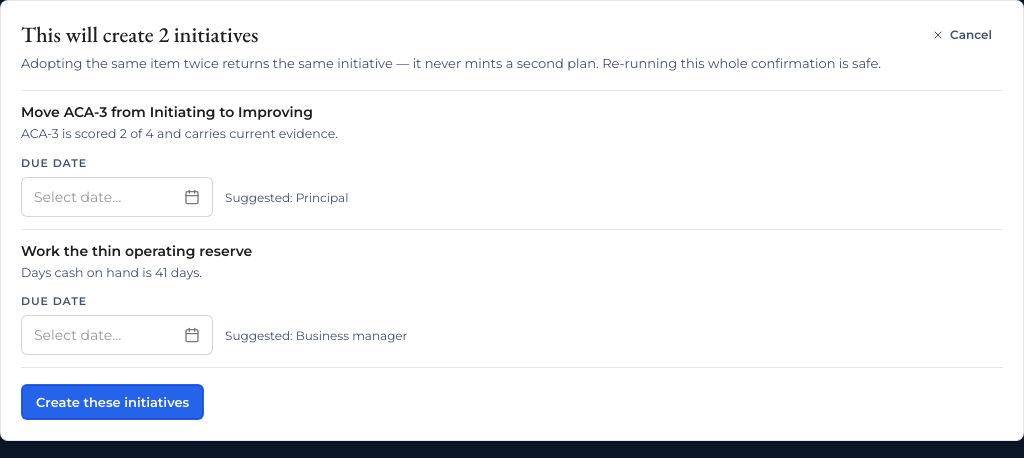
Test: SPEC-WEB-8 — acceptance 8: a 200 reads "already being worked", never "Created" › a partial failure is reported per row and never rolled back
Click the button "Create these initiatives". click: (113, 402)
box: x1=21 y1=384 x2=204 y2=420
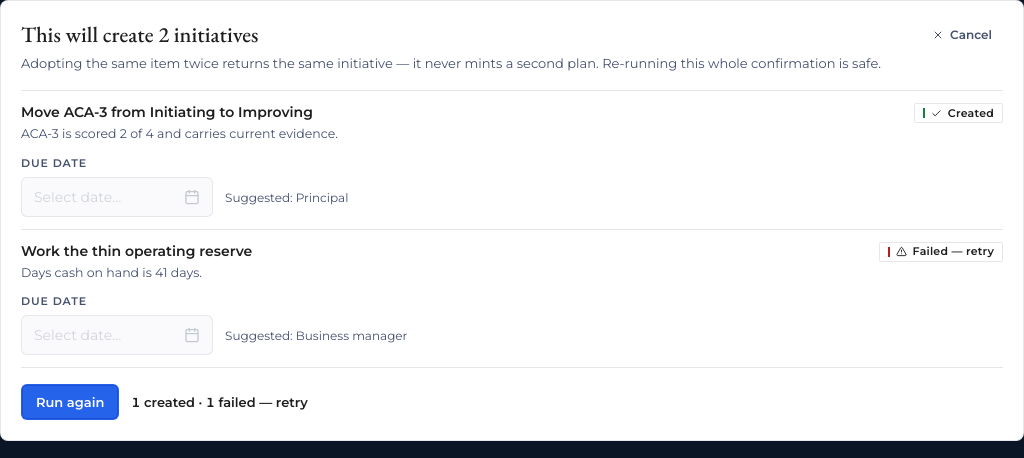
Expected: the text "never mints a second plan" is shown, x1=21 y1=55 x2=881 y2=71
Expected: the element with test id "row-failed" is shown, x1=879 y1=242 x2=1003 y2=262
Expected: the element with test id "row-created" is shown, x1=914 y1=103 x2=1003 y2=123
